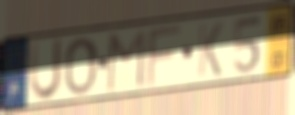5: (232, 13, 263, 76)
F: (144, 21, 183, 90)
K: (196, 20, 225, 79)
M: (104, 26, 148, 95)
O: (64, 36, 99, 98)
U: (28, 36, 66, 104)
